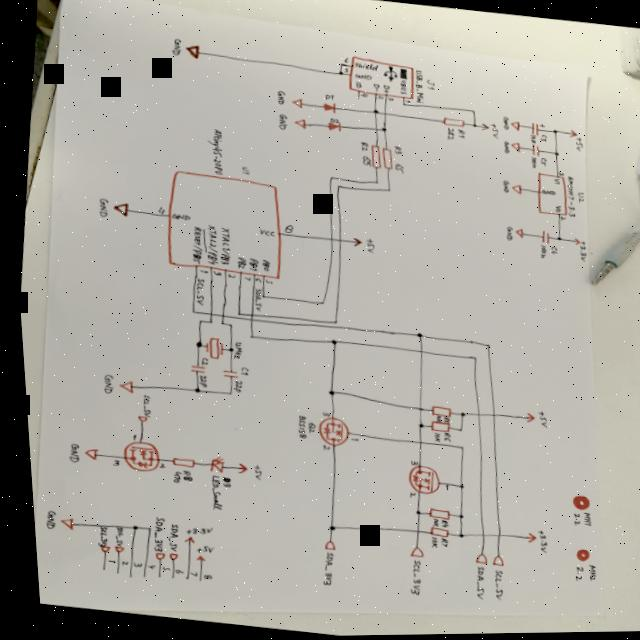capacitor: (528, 122, 544, 137), (184, 363, 202, 374), (535, 230, 548, 245), (527, 144, 541, 157), (216, 369, 234, 379)
crossover: (483, 411, 493, 419), (470, 532, 480, 539), (405, 528, 415, 535), (326, 236, 335, 243), (488, 532, 496, 539), (333, 237, 341, 244), (469, 412, 477, 418), (411, 406, 418, 412), (244, 312, 251, 317), (244, 317, 250, 322), (371, 127, 377, 132), (216, 313, 221, 318), (414, 349, 419, 354), (204, 311, 209, 316), (381, 112, 386, 117), (412, 440, 416, 444)
diode: (202, 454, 220, 474), (320, 101, 335, 114), (325, 122, 341, 133)
ground: (182, 42, 201, 60), (109, 200, 128, 218), (112, 376, 131, 394), (50, 515, 68, 531), (77, 445, 93, 460), (291, 116, 306, 130), (507, 184, 520, 195), (289, 97, 302, 108), (507, 142, 519, 153), (510, 228, 521, 239), (508, 121, 519, 132)
junction: (320, 523, 330, 532), (368, 108, 379, 116), (187, 385, 196, 394), (552, 235, 561, 243), (450, 512, 459, 520), (190, 339, 198, 348), (324, 338, 334, 345), (410, 332, 420, 339), (449, 532, 459, 539), (410, 422, 420, 429), (406, 509, 416, 516), (326, 318, 336, 325), (321, 389, 330, 396), (450, 483, 459, 490), (550, 151, 559, 158), (479, 343, 488, 350), (242, 333, 251, 340), (465, 356, 475, 362), (450, 426, 458, 433), (315, 299, 323, 306), (452, 444, 460, 451), (550, 128, 557, 135), (453, 411, 460, 418), (124, 523, 131, 530), (325, 175, 333, 181), (332, 183, 340, 189), (192, 318, 200, 324), (185, 308, 193, 314), (223, 346, 230, 352), (378, 127, 385, 132), (384, 187, 390, 192), (371, 179, 377, 184), (469, 109, 475, 114), (337, 70, 343, 75), (232, 311, 237, 316), (338, 62, 343, 66), (204, 319, 208, 323), (223, 391, 227, 395), (257, 294, 261, 298), (140, 526, 144, 530), (471, 124, 475, 128), (215, 321, 220, 324), (224, 323, 228, 326), (401, 103, 405, 106)
resistor: (366, 144, 382, 168), (377, 147, 393, 170), (164, 455, 191, 468), (438, 115, 465, 128), (420, 507, 444, 520), (424, 405, 446, 417), (420, 526, 442, 538), (423, 421, 445, 433)
source: (230, 462, 242, 474), (347, 237, 360, 248), (518, 413, 530, 424), (518, 532, 530, 543), (175, 535, 189, 544), (565, 130, 577, 139), (479, 122, 488, 132), (187, 554, 198, 561), (569, 237, 577, 246)
terminal: (401, 545, 417, 559), (315, 540, 329, 551), (483, 556, 497, 567), (466, 553, 480, 564), (159, 551, 171, 560), (146, 551, 158, 560), (106, 544, 118, 553), (92, 544, 104, 552), (130, 414, 143, 421), (176, 575, 182, 580), (134, 575, 138, 578), (94, 567, 98, 570), (162, 575, 166, 578), (107, 571, 112, 573), (120, 575, 124, 577), (190, 579, 194, 581), (149, 575, 153, 577)
text: (202, 127, 227, 175), (185, 224, 207, 264), (199, 224, 219, 265), (559, 176, 578, 218), (311, 549, 329, 587), (201, 473, 219, 510), (410, 69, 427, 104), (215, 226, 230, 265), (144, 514, 159, 552), (400, 559, 415, 596), (464, 566, 479, 601), (483, 569, 498, 601), (157, 522, 173, 551), (189, 277, 204, 306), (178, 523, 208, 536), (527, 530, 542, 555), (289, 414, 304, 438), (133, 393, 148, 416), (61, 441, 76, 463), (96, 372, 111, 394), (169, 35, 184, 57), (93, 196, 108, 217), (37, 508, 52, 529), (352, 61, 379, 72), (248, 287, 260, 311), (576, 564, 591, 583), (89, 525, 102, 546), (530, 410, 544, 429), (227, 340, 240, 359), (106, 525, 117, 547), (565, 565, 579, 582), (275, 112, 288, 130), (396, 78, 409, 96), (574, 241, 585, 262), (361, 237, 374, 254), (244, 463, 257, 480), (274, 89, 287, 106), (570, 135, 583, 152), (188, 543, 208, 554), (226, 377, 239, 393), (486, 124, 499, 140), (254, 227, 274, 237), (573, 512, 586, 527), (169, 211, 188, 221), (174, 469, 187, 482), (192, 373, 204, 386), (244, 258, 256, 271), (213, 475, 225, 488), (443, 127, 454, 141), (501, 226, 511, 241), (358, 155, 370, 167), (233, 256, 244, 269), (165, 470, 176, 483), (564, 513, 574, 527), (499, 116, 509, 130), (498, 180, 508, 194), (354, 72, 371, 80), (391, 163, 403, 174), (544, 246, 556, 257), (237, 165, 250, 175), (257, 258, 267, 271), (573, 191, 583, 204), (421, 536, 431, 549), (300, 421, 310, 434), (538, 189, 554, 197), (424, 79, 435, 90), (535, 244, 543, 259), (152, 205, 165, 214), (357, 141, 367, 152), (436, 432, 446, 443), (454, 128, 464, 139), (280, 223, 292, 232), (193, 572, 206, 580), (527, 156, 535, 169), (500, 141, 508, 154), (390, 146, 401, 155), (105, 457, 116, 466), (432, 537, 441, 548), (327, 117, 340, 124), (234, 366, 244, 375), (432, 519, 442, 528), (195, 356, 204, 366), (427, 432, 435, 443), (370, 83, 379, 92), (380, 85, 389, 94), (537, 134, 546, 143), (223, 271, 233, 279), (527, 134, 535, 144), (537, 157, 545, 167), (315, 443, 325, 451), (151, 461, 161, 469), (352, 81, 363, 88), (322, 93, 333, 100), (124, 560, 135, 567), (403, 459, 412, 467), (551, 205, 559, 214), (424, 518, 432, 527), (400, 492, 410, 499), (437, 417, 445, 425), (342, 56, 350, 64), (550, 178, 559, 185), (429, 414, 436, 423), (316, 410, 325, 417), (125, 432, 132, 441), (153, 564, 162, 571), (112, 559, 121, 566), (260, 278, 270, 284), (343, 436, 353, 442), (166, 568, 176, 574), (139, 563, 149, 569), (209, 270, 218, 276), (99, 558, 109, 563), (341, 67, 349, 73), (358, 93, 367, 98), (386, 96, 393, 102), (556, 216, 563, 222), (196, 268, 204, 273), (239, 275, 247, 280), (181, 571, 189, 576), (251, 277, 258, 282), (555, 172, 562, 177), (376, 95, 382, 100), (403, 98, 409, 103), (437, 485, 442, 491)
transistor: (115, 438, 156, 472), (399, 463, 436, 496), (309, 415, 346, 448)
